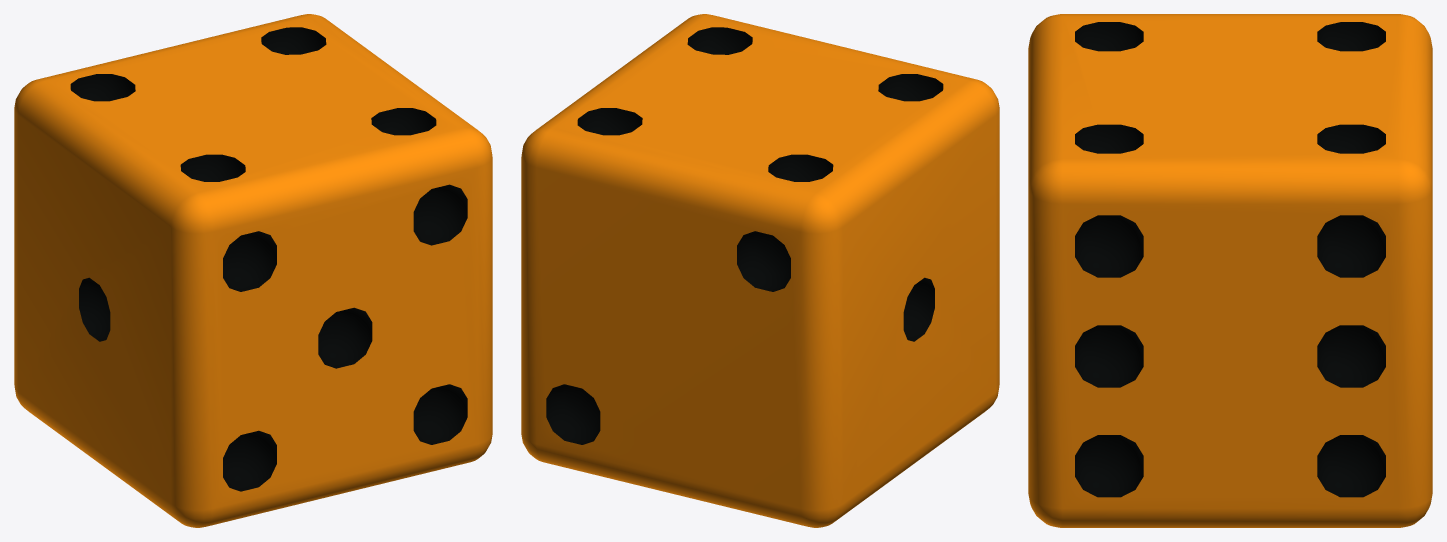
The model's file is dice_orange.dae.
The picture shows the model from 3 angles, left to right: view 1: azimuth 30°, elevation 25°; view 2: azimuth 150°, elevation 25°; view 3: azimuth 270°, elevation 25°; orthographic projection. The views are drawn at different scales.
Parts seen in each view (by area): view 1: dice_orange; view 2: dice_orange; view 3: dice_orange.
Part boxes in pixels (box(x1,y1,x2,y2)): dice_orange: box(14, 14, 492, 527); dice_orange: box(521, 14, 999, 527); dice_orange: box(1028, 14, 1432, 527).
Size of the model in its own units: 5 by 5 by 5.
1 material, 1 textured.
